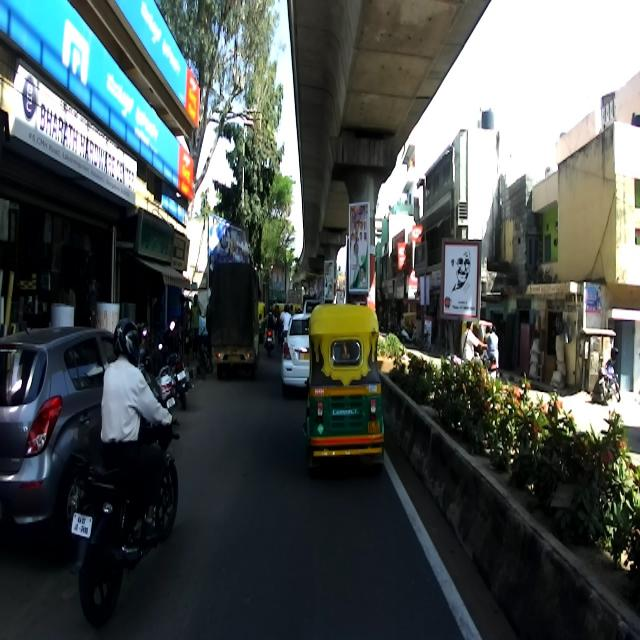autorickshaw: (302, 301, 384, 473)
car: (0, 326, 116, 556), (278, 311, 315, 400)
motorcycle: (68, 399, 178, 628), (156, 321, 194, 409)
scooter: (134, 322, 178, 424)
truck: (203, 254, 263, 384)
